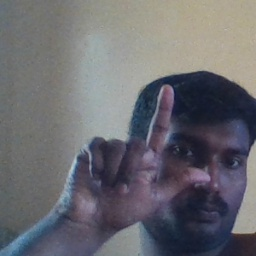L: (59, 84, 210, 230)
